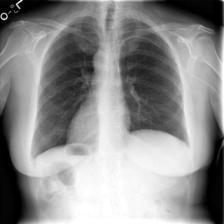normal: (28, 14, 192, 160)
